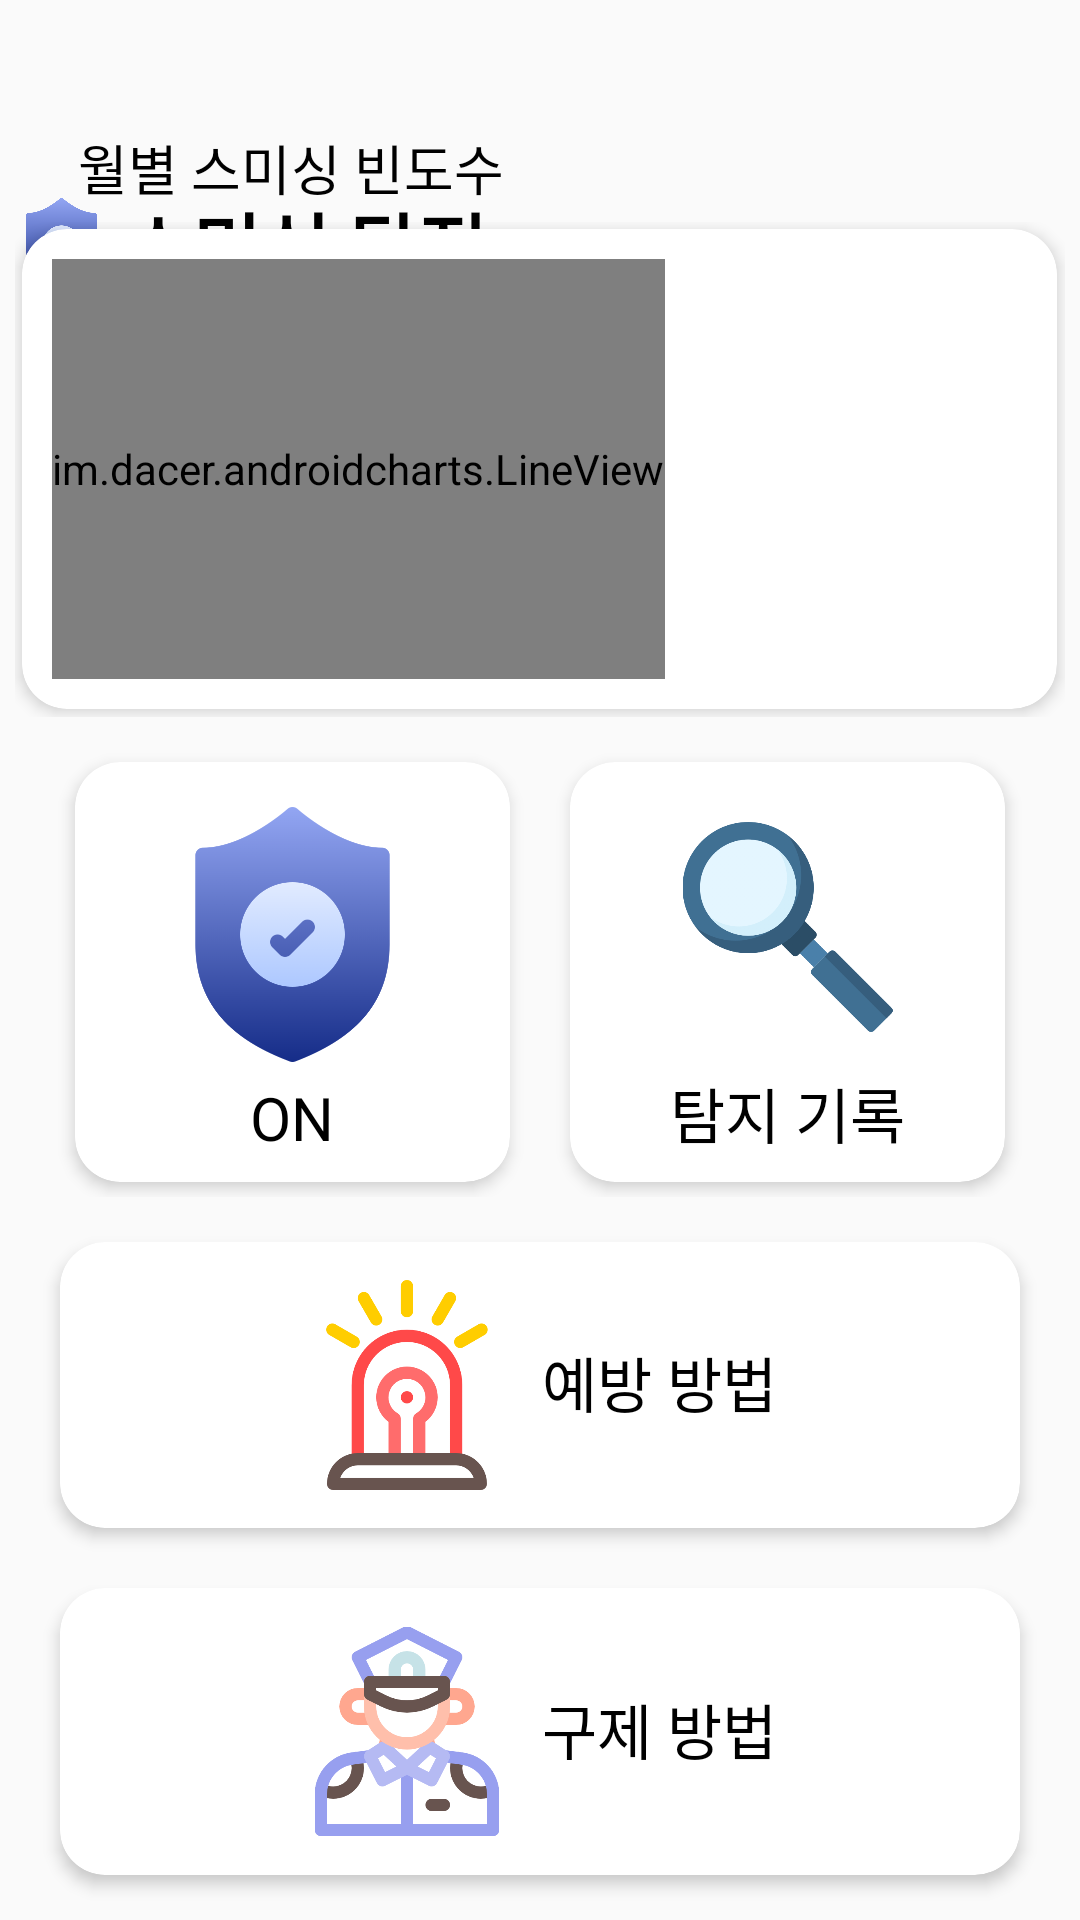

Screen size 1080px×1920px. Icon name, then its center in pixels as (x,y):
prevent: (407,1385)
